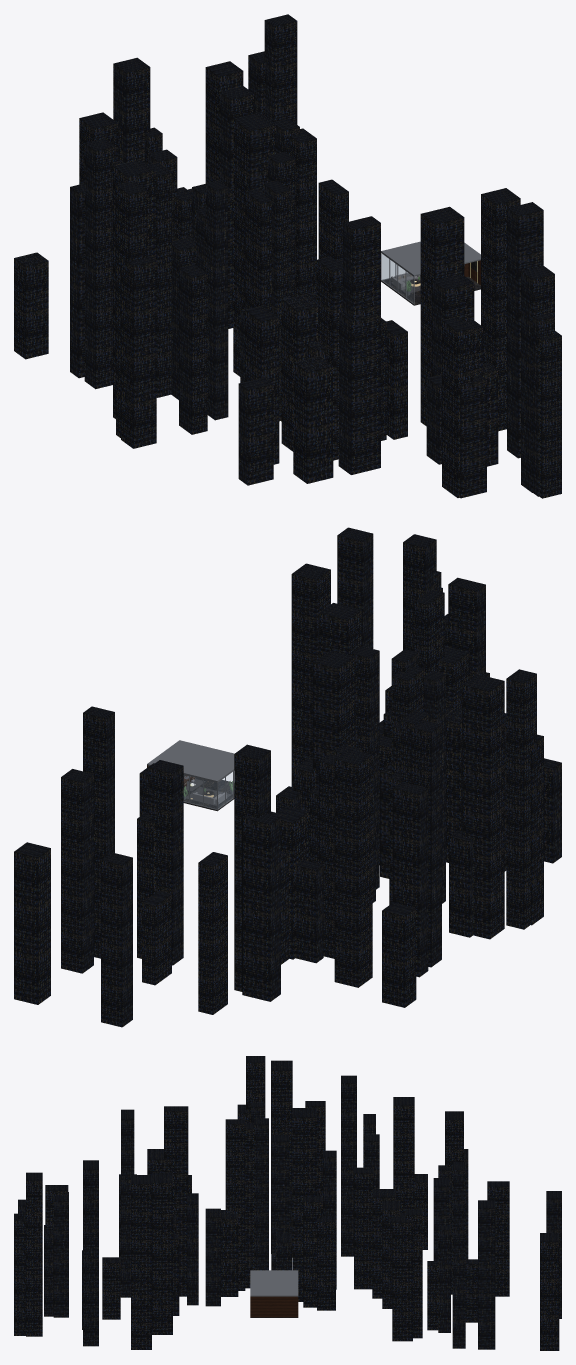
Rendered from luxury_office_studio-v2.glb.
3 renders of one model, top to bottom at view 1: azimuth 30°, elevation 25°; view 2: azimuth 150°, elevation 25°; view 3: azimuth 270°, elevation 25°, orthographic. The views are drawn at different scales.
Parts seen in each view (by area): view 1: Panoramic_City_Skyline, Ceiling_Slab, Panoramic_Windows; view 2: Panoramic_City_Skyline, Ceiling_Slab, Panoramic_Windows; view 3: Panoramic_City_Skyline, Ceiling_Slab, Right_Wood_Wall.
Part boxes in pixels (x1,y1,x2,y2): Panoramic_City_Skyline: (14, 14, 561, 498); Ceiling_Slab: (381, 241, 480, 276); Panoramic_Windows: (381, 252, 414, 304); Panoramic_City_Skyline: (14, 527, 561, 1027); Ceiling_Slab: (147, 740, 234, 782); Panoramic_Windows: (148, 765, 234, 810); Panoramic_City_Skyline: (14, 1056, 561, 1350); Ceiling_Slab: (250, 1270, 298, 1296); Right_Wood_Wall: (250, 1296, 298, 1317).
Size of the model in its own units: 50.51 by 33.99 by 91.02.
Materials: 17 (6 with a texture image).
